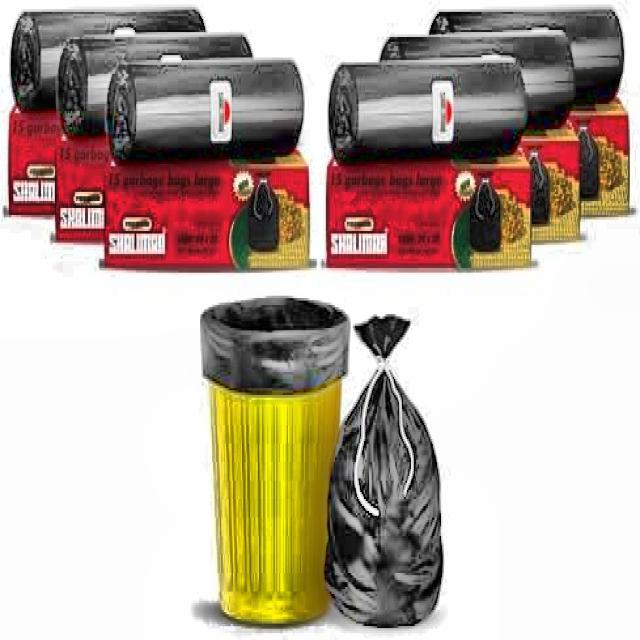Trashbag: (318, 359, 452, 628)
